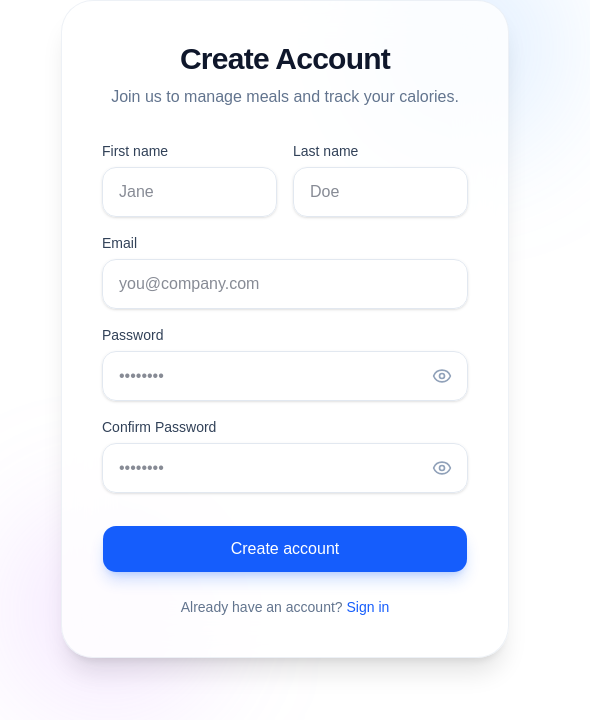
Test: Register Form Tests › shows validation errors for empty submissions
// Click submit without entering anything
Click the button "Create account". click: point(285, 549)
box: [102, 525, 468, 573]
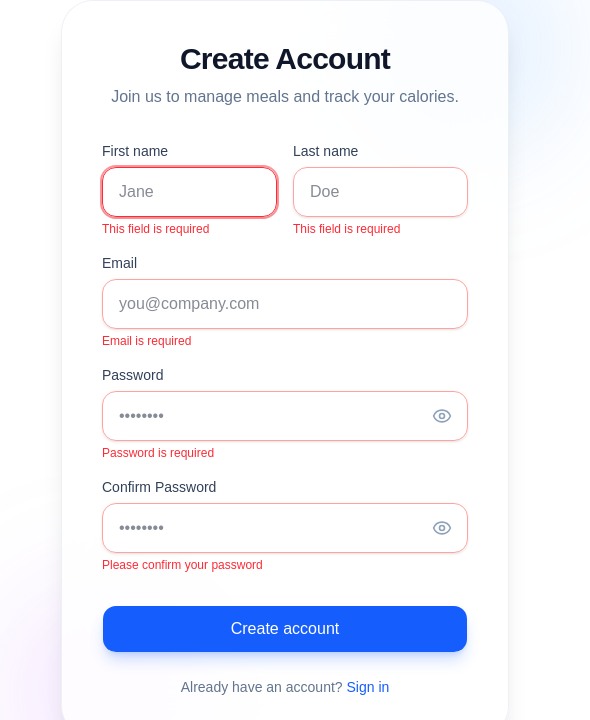
Check: the text "This field is required" below "First name" is shown, box [102, 222, 209, 236]
Check: the text "Email is required" is shown, box [102, 334, 191, 348]
Check: the text "Password is required" is shown, box [102, 446, 214, 460]
